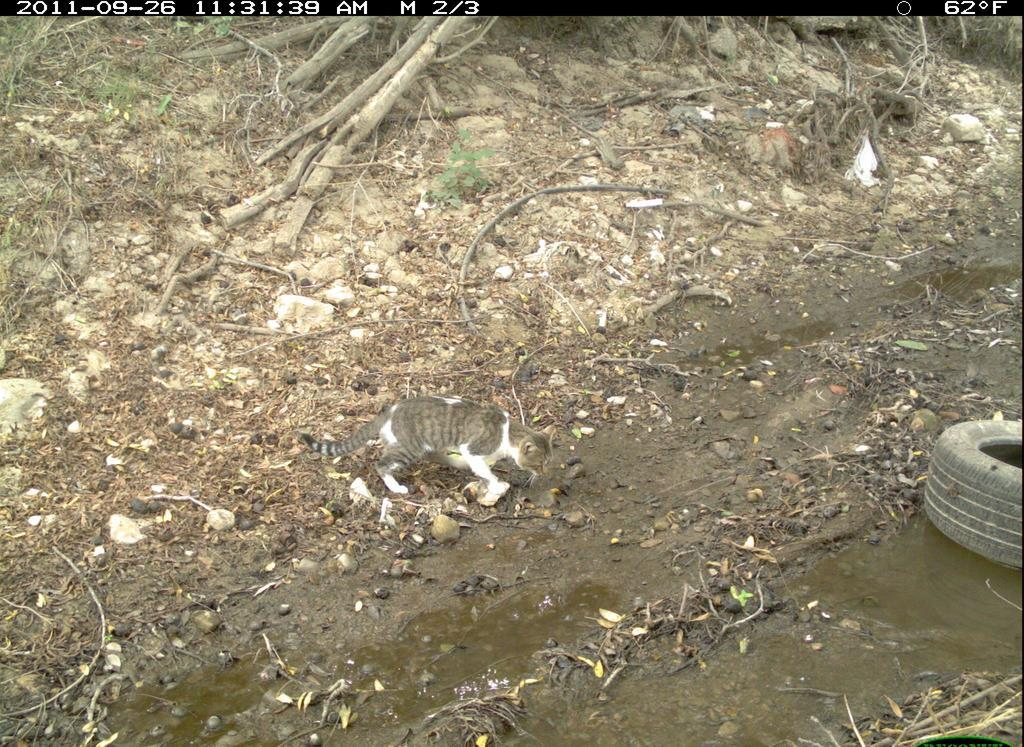cat: (294, 390, 561, 521)
